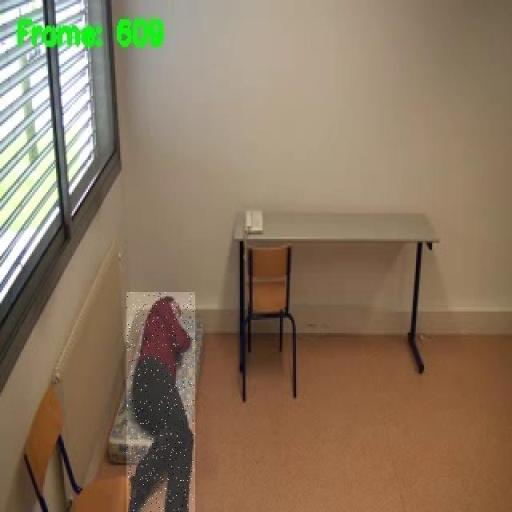Fall: (127, 292, 196, 512)
